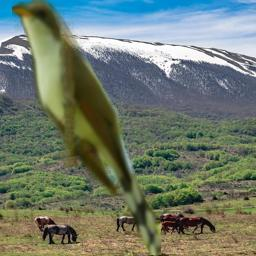Cuckoo: (12, 0, 161, 255)
